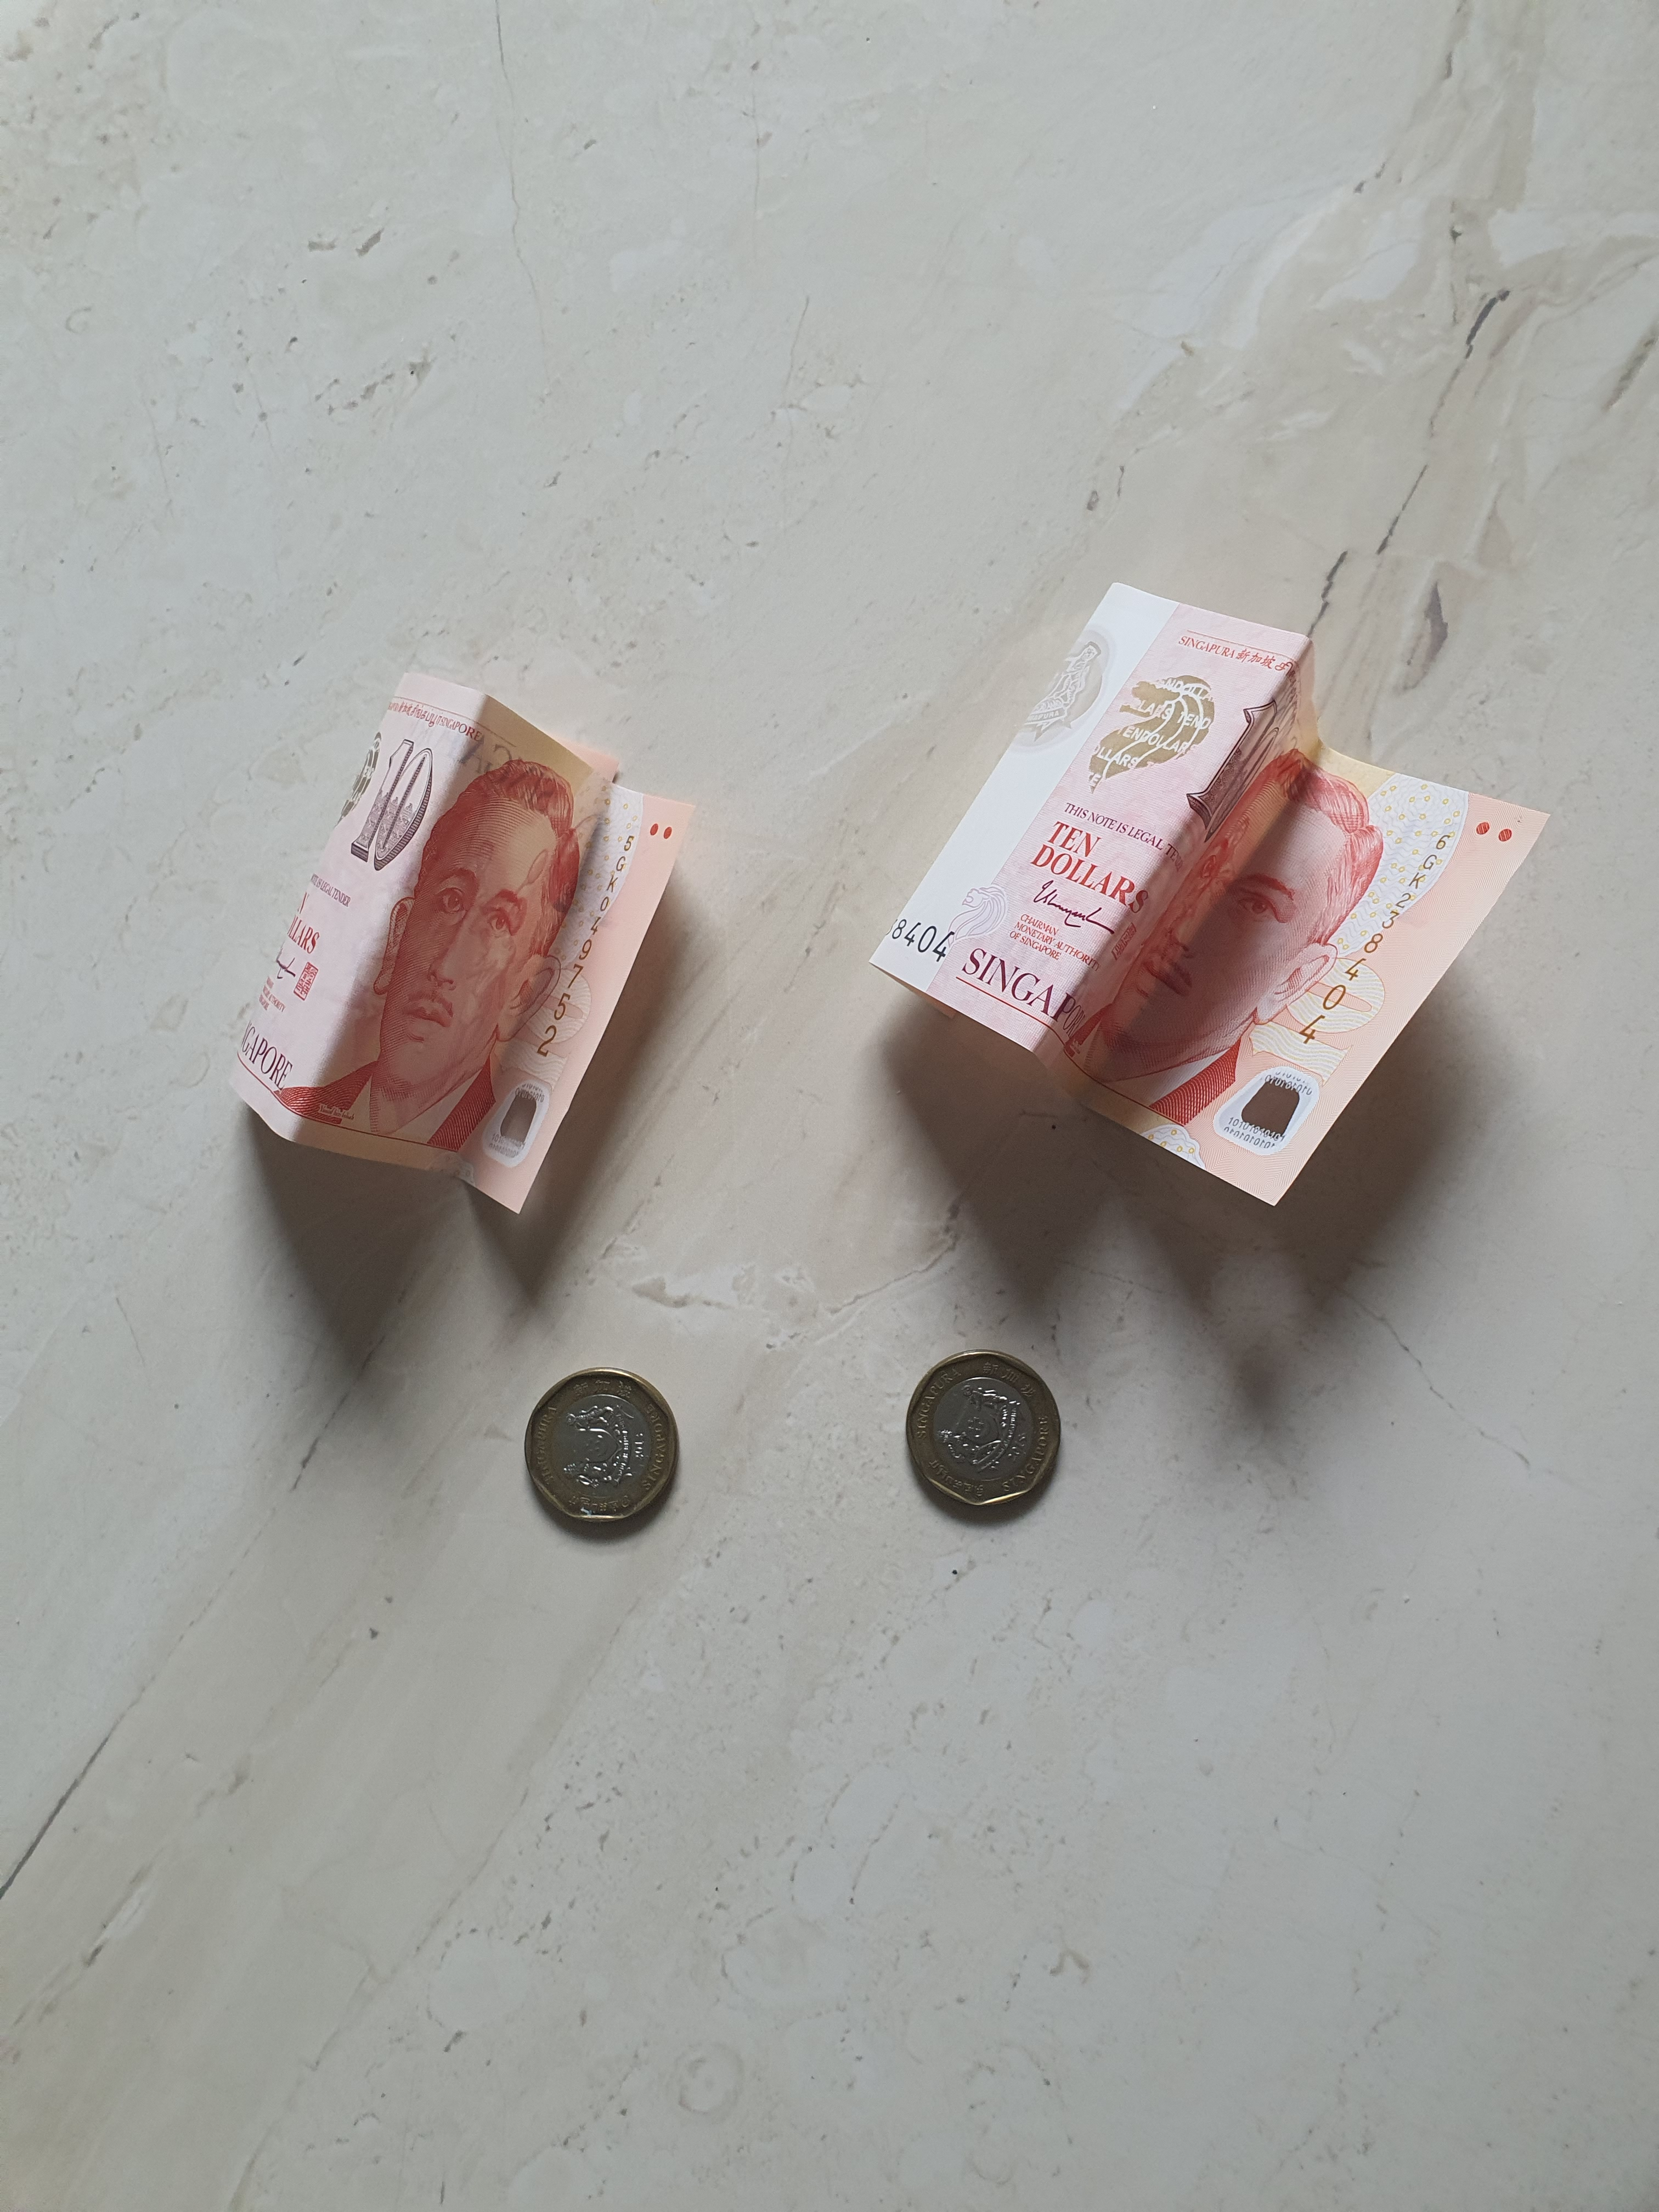$1: (904, 1352, 1061, 1508), (523, 1367, 681, 1522)
$10: (868, 582, 1553, 1209), (227, 674, 695, 1214)
